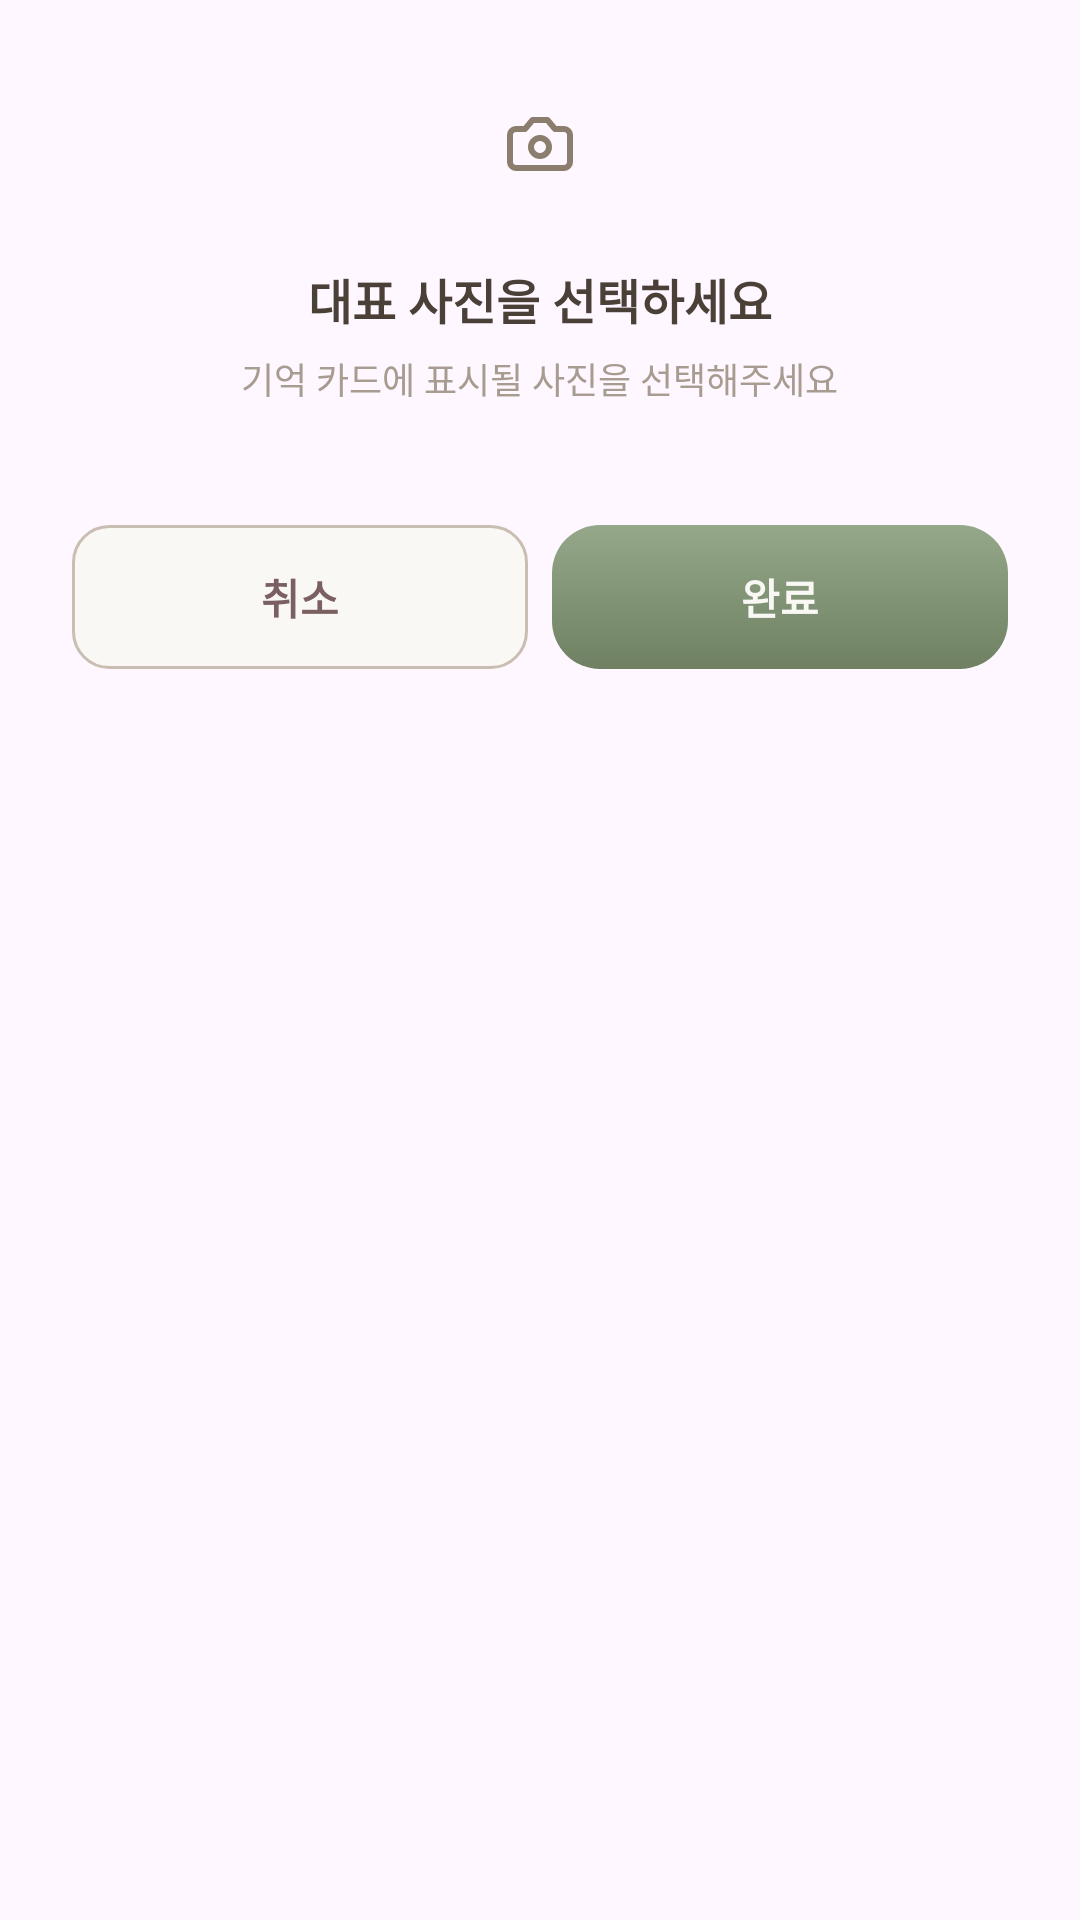

Where to tap for icons on this 1080 x 1920 app screen, as (x=x, y=y):
camera: (x=540, y=144)
